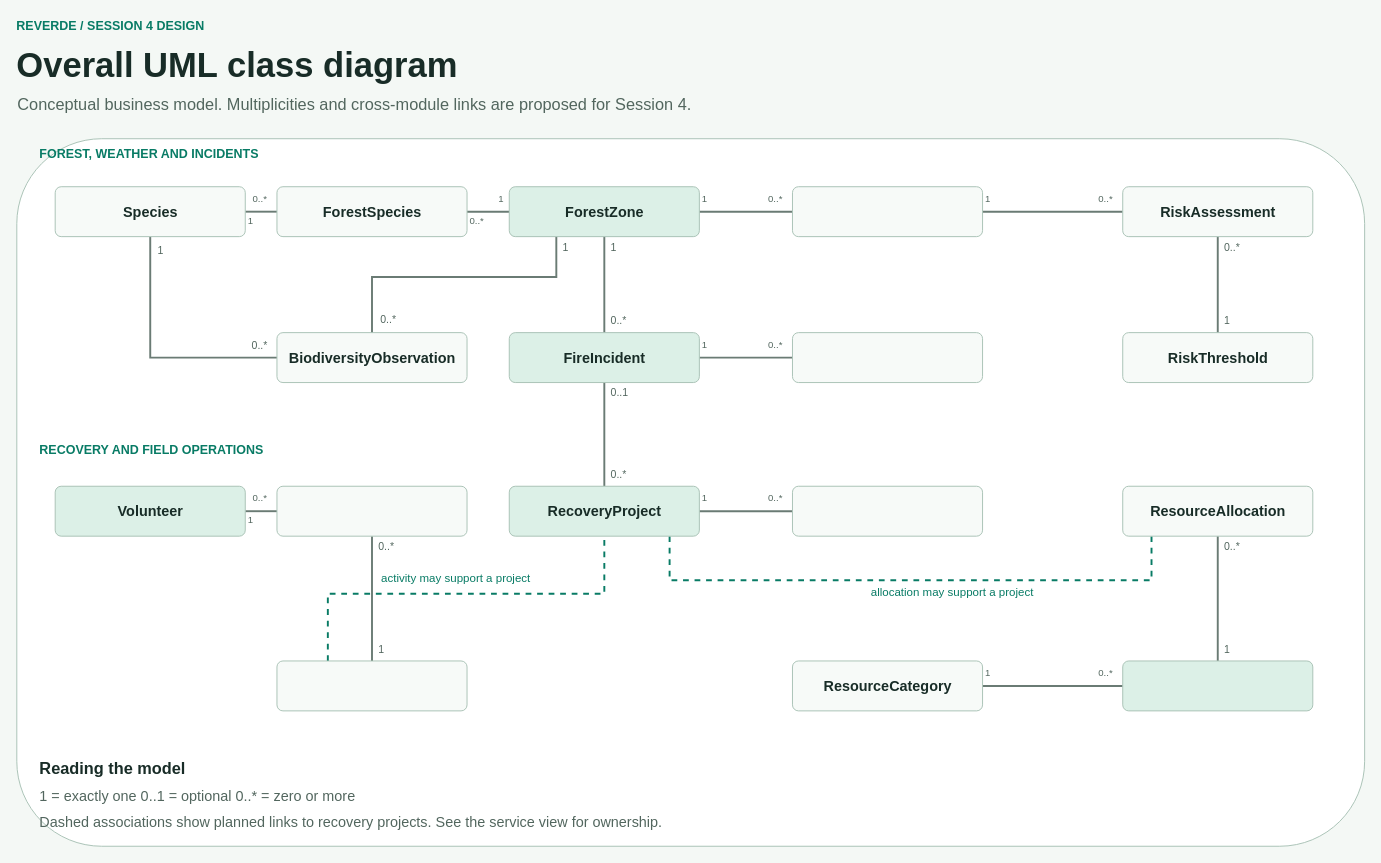
Image size: 1381x863. Some labels were removed from this diagram. Here are the shapes that lost their labels. From the top down, the centre of each, then its label:
At (887,211): "WeatherRecord".
At (887,357): "DamageAssessment".
At (371,510): "Registration".
At (887,510): "PlantingRecord".
At (371,685): "Activity".
At (1217,685): "Equipment".
